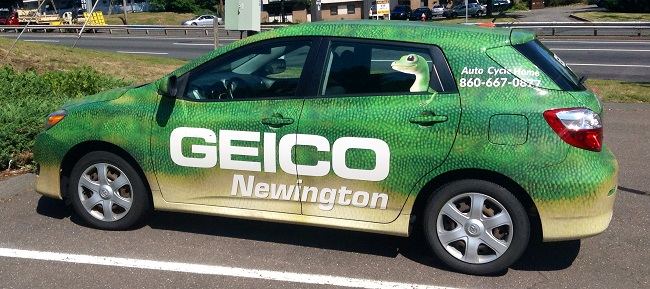geico: (163, 125, 415, 189)
